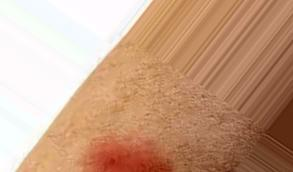Spider: (88, 143, 171, 171)
